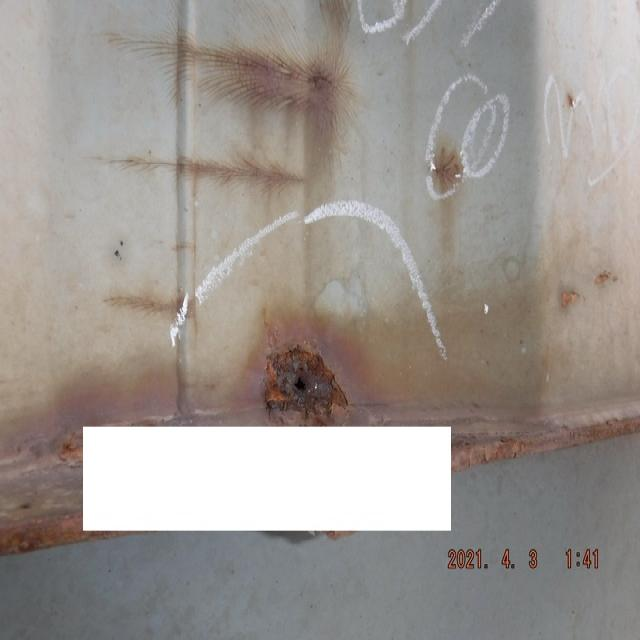hole: (262, 341, 351, 417)
